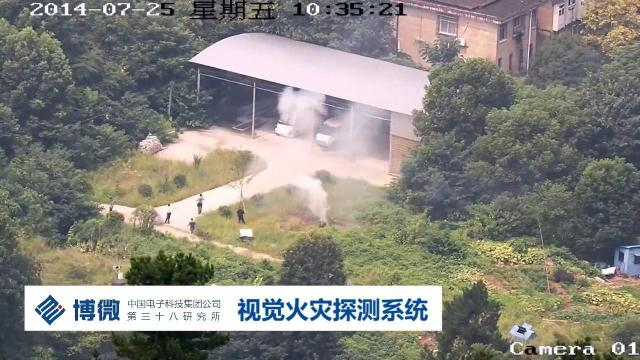smoke: (330, 99, 390, 164), (274, 84, 328, 141), (290, 168, 344, 224)
